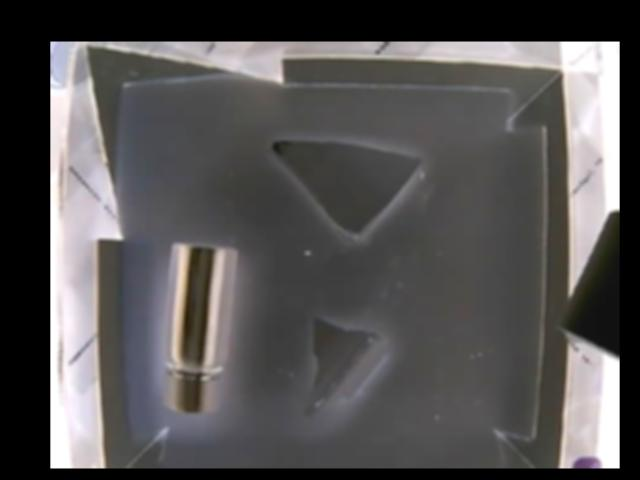Bottle: (164, 243, 235, 415)
China: (267, 140, 416, 236), (301, 312, 383, 417)
